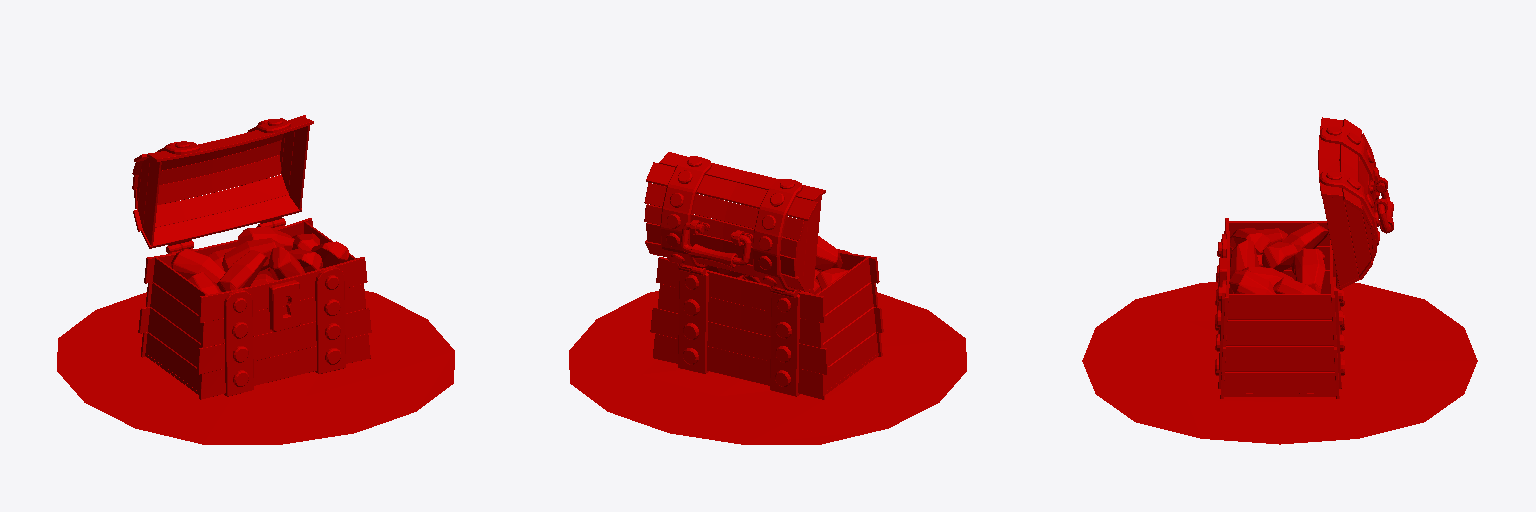
File: chest_01.obj
3 renders of one model, left to right at view 1: azimuth 30°, elevation 25°; view 2: azimuth 150°, elevation 25°; view 3: azimuth 270°, elevation 25°, orthographic.
Visible parts, largest first — view 1: chest1_Cube.002; view 2: chest1_Cube.002; view 3: chest1_Cube.002.
Boxes of the visible parts, box(x1,y1,x2,y2) form: chest1_Cube.002: box(57, 115, 454, 444); chest1_Cube.002: box(569, 152, 966, 444); chest1_Cube.002: box(1082, 117, 1477, 444).
Size of the model in its own units: 1.83 by 1.07 by 1.83.